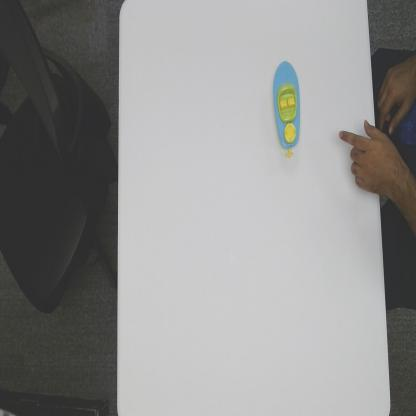Boat: (272, 58, 301, 160)
Hand: (338, 116, 378, 195)
